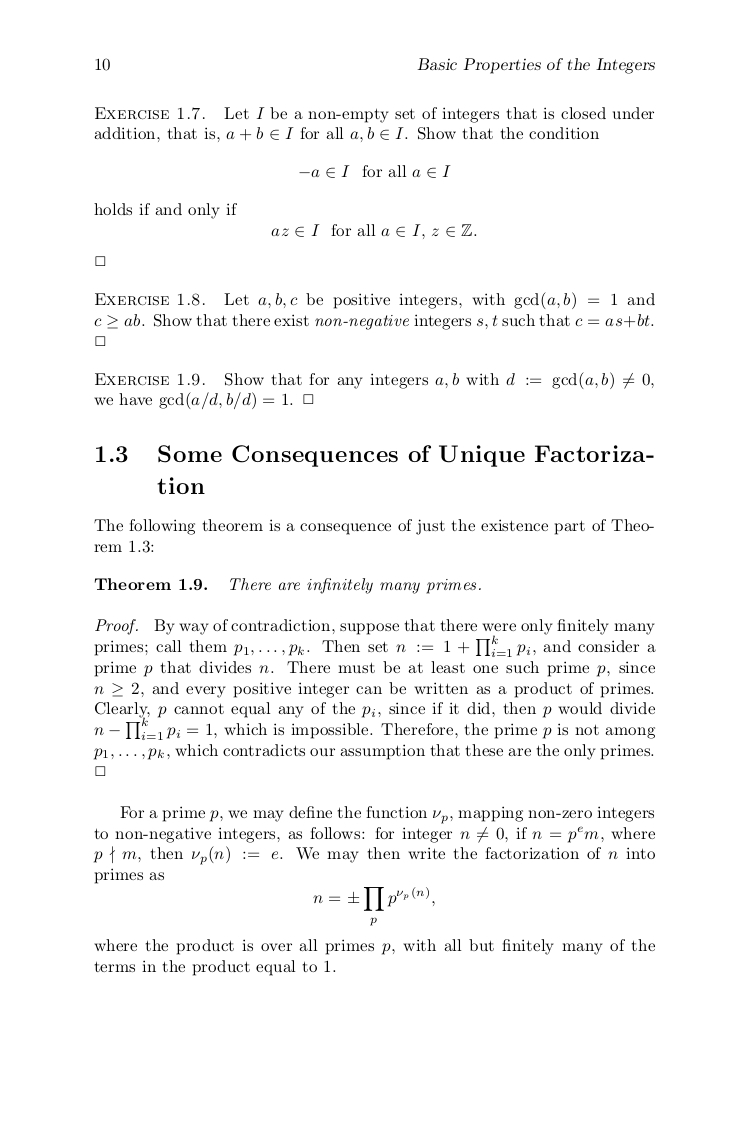formula: (313, 887, 434, 925), (271, 222, 476, 239), (299, 164, 450, 178)
